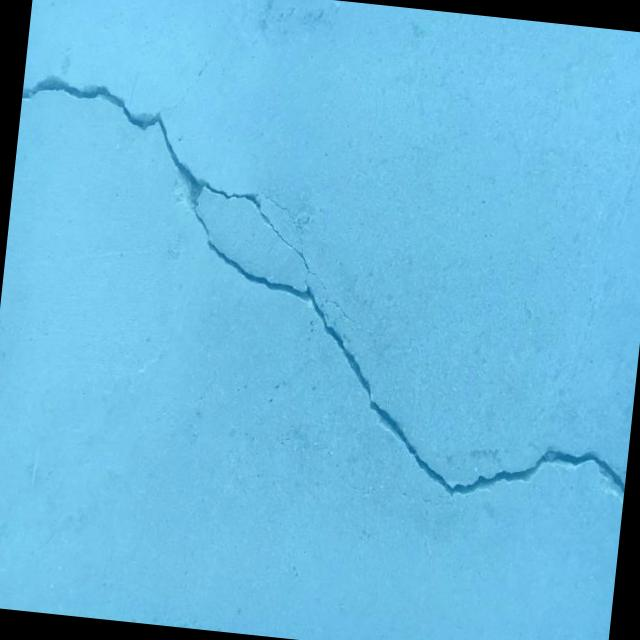crack: (0, 32, 640, 525)
